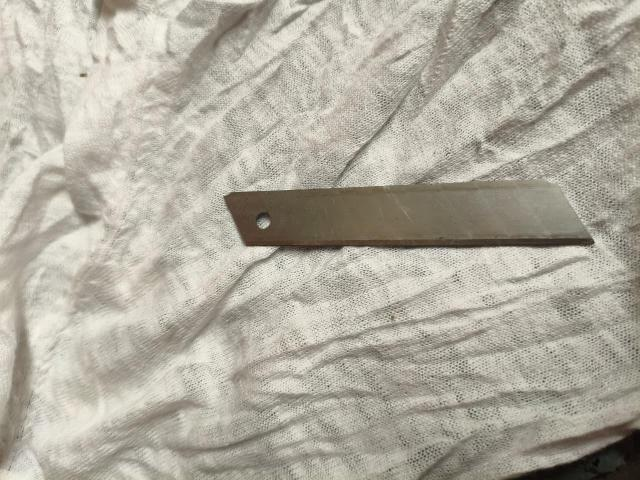Metal: (216, 188, 598, 251)
